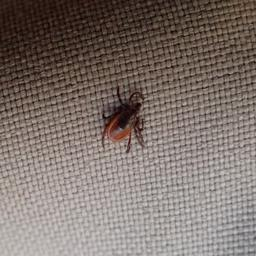Ixodes scapularis: (102, 87, 147, 151)
